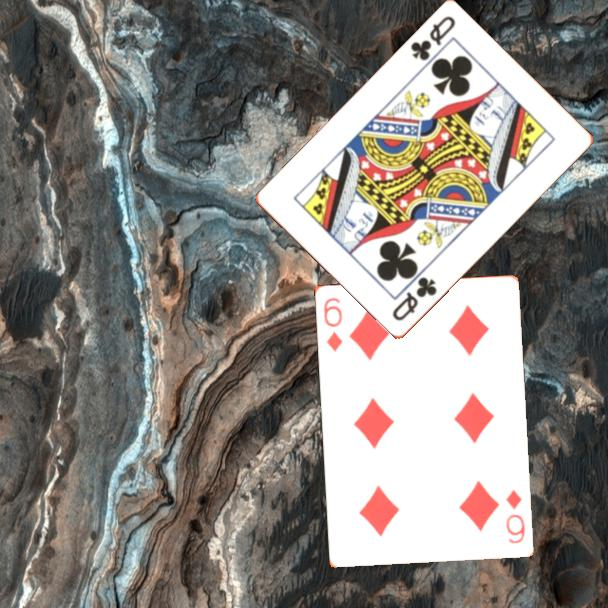c12: (407, 13, 458, 64), (389, 274, 440, 324)
d06: (320, 294, 345, 354), (502, 486, 527, 546)
